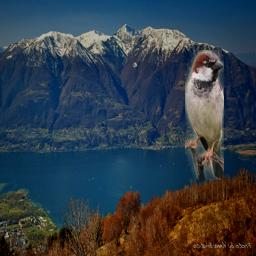Sparrow: (185, 50, 224, 180)
